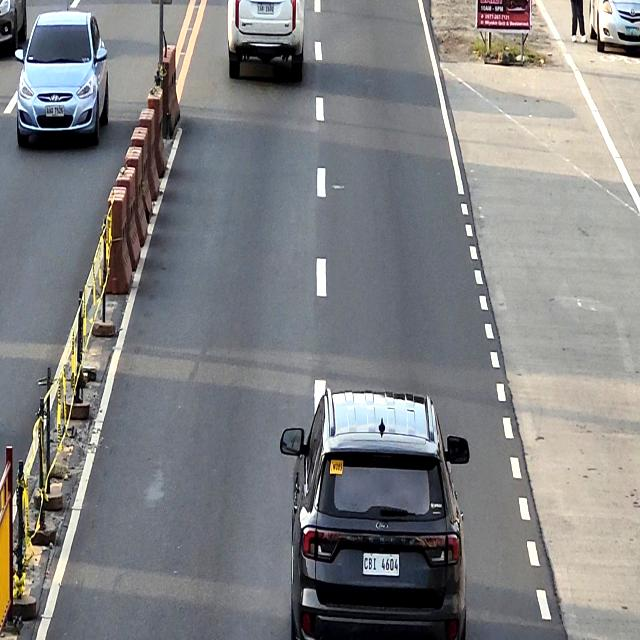Car: (280, 387, 469, 640), (15, 11, 110, 148), (226, 0, 305, 79), (589, 0, 640, 53)
License-Plate: (363, 554, 399, 576), (46, 105, 65, 117), (257, 2, 274, 15), (625, 27, 640, 37)
